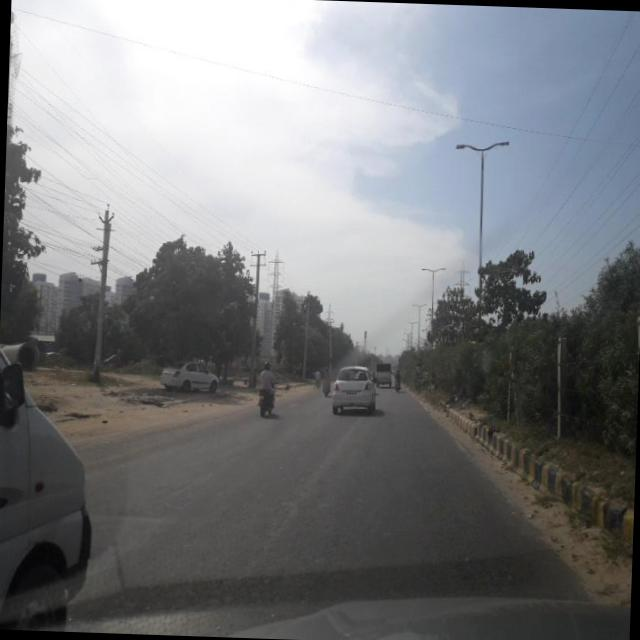crack: (121, 429, 574, 593)
